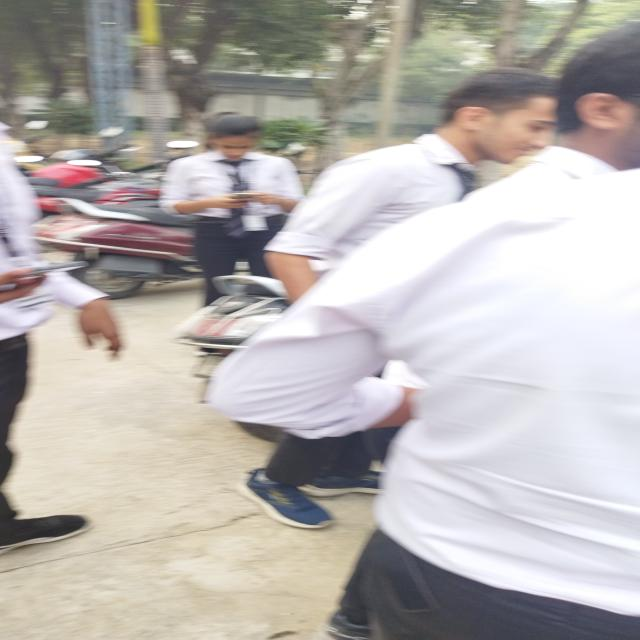unsafe: (163, 110, 302, 290)
